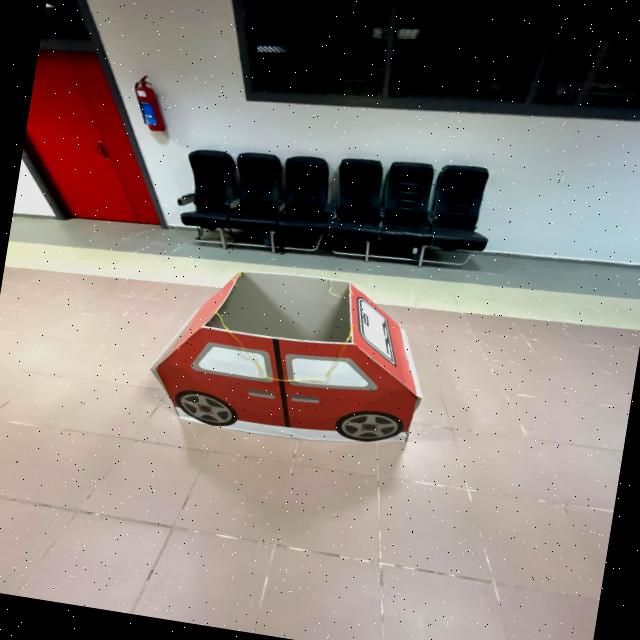red_car: (120, 241, 477, 483)
